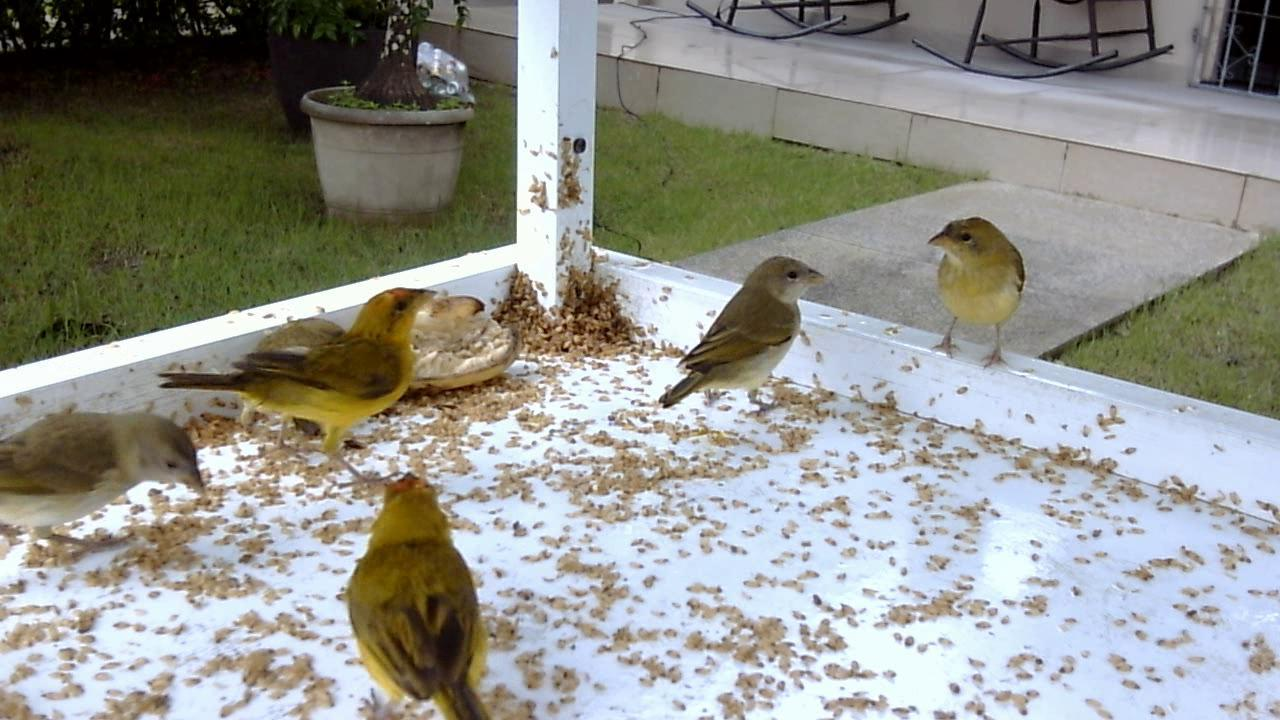canario_do_amazonas: (149, 286, 449, 466), (338, 474, 499, 720), (1, 406, 204, 581), (651, 253, 835, 420), (917, 211, 1035, 373)
